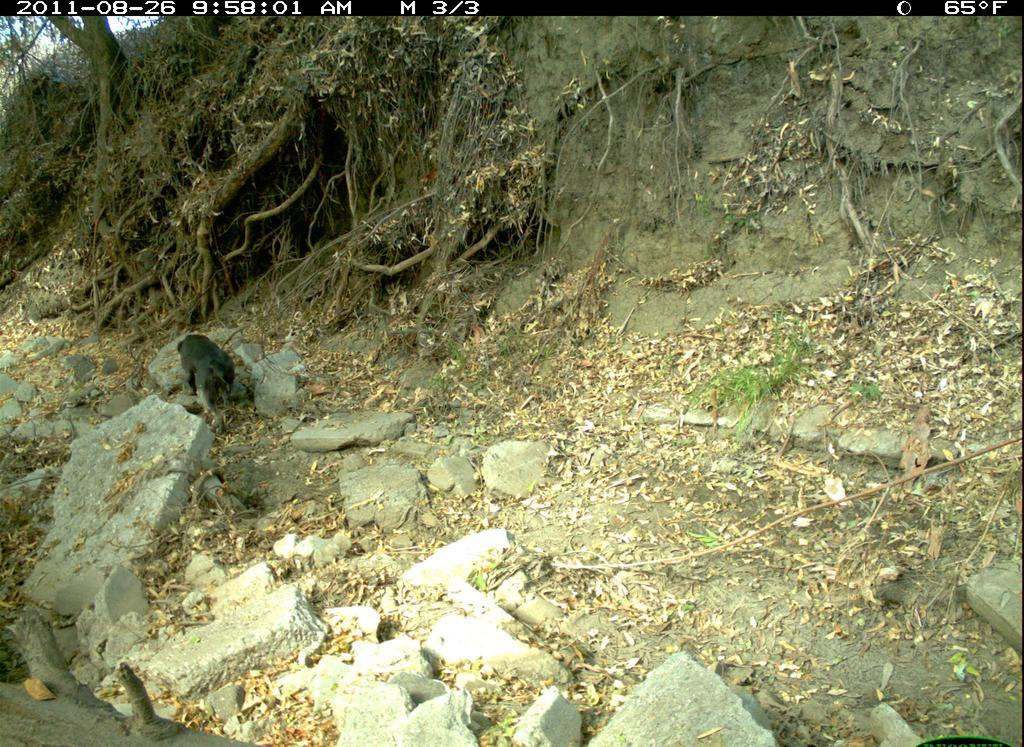dog: (167, 331, 249, 433)
